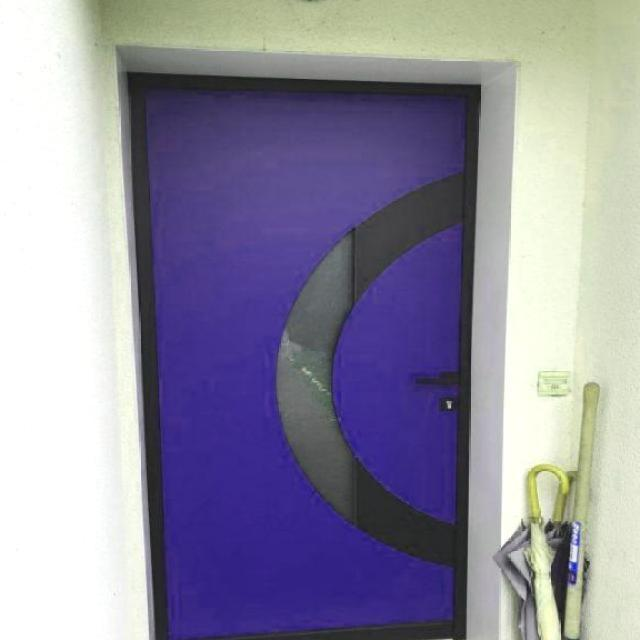door: (123, 63, 482, 638)
